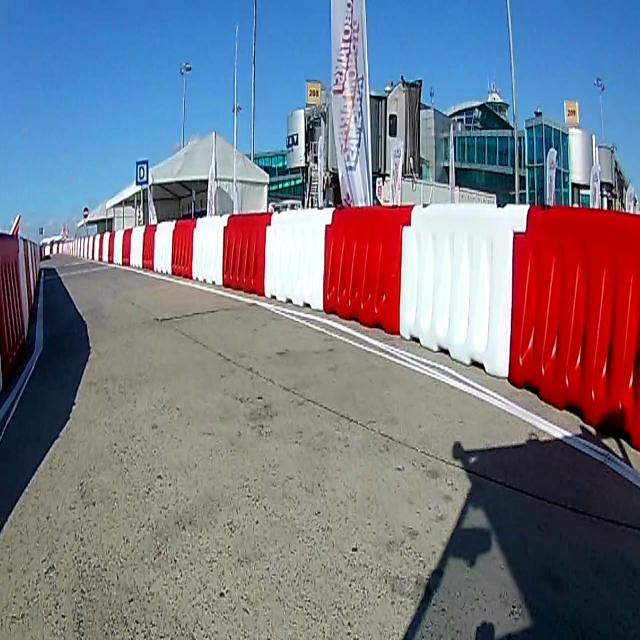durak: (136, 158, 147, 186)
